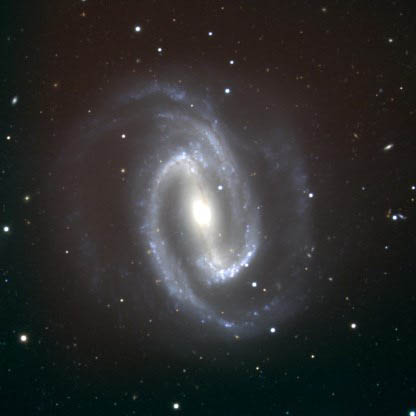NGC 1300: (49, 68, 329, 353)
